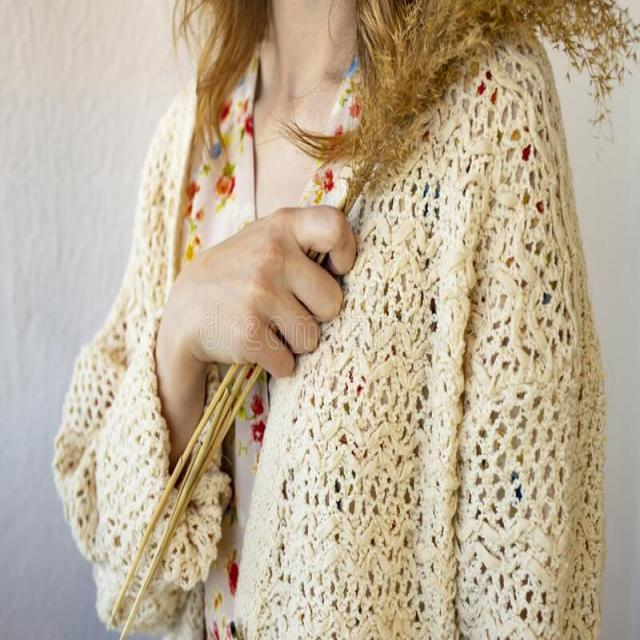clothes: (166, 73, 590, 640)
